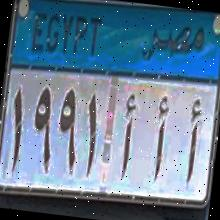1: (3, 79, 34, 173), (77, 88, 106, 178)
9: (50, 82, 84, 178), (26, 82, 58, 175)
alif: (176, 93, 208, 187), (144, 92, 174, 182), (114, 91, 142, 178)
